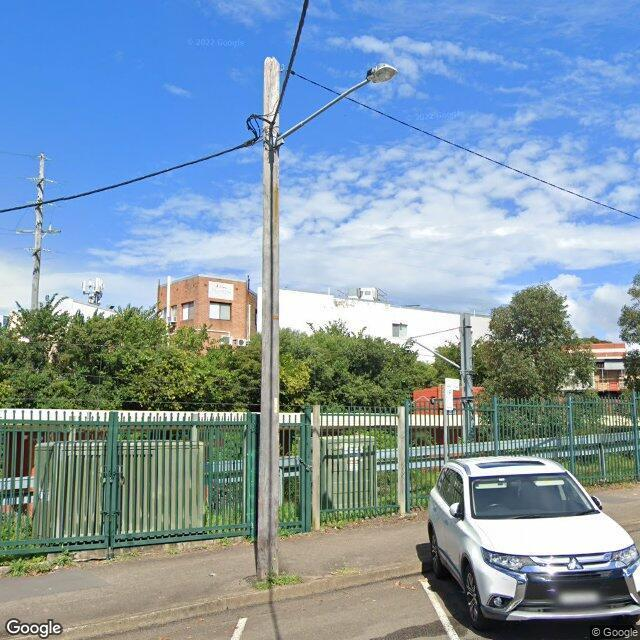HV-transmission: (18, 152, 62, 252)
streetlight: (274, 63, 398, 146), (402, 338, 461, 369)
timber-pole: (256, 57, 280, 580), (30, 154, 46, 311), (460, 313, 474, 443)
